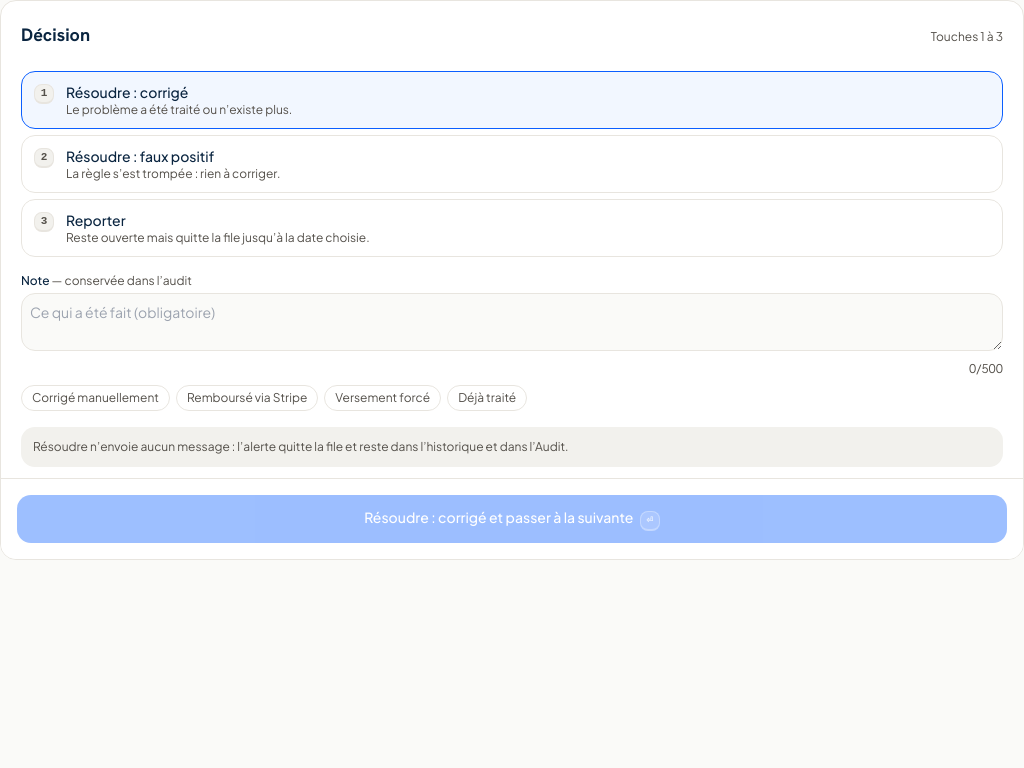
AlertDecisionPanel › un motif rapide remplit la note ; ceux du faux positif diffèrent
Step 1. Click the button with test id "alert-quick-Remboursé via Stripe" → (247, 398), box [176, 385, 318, 411]
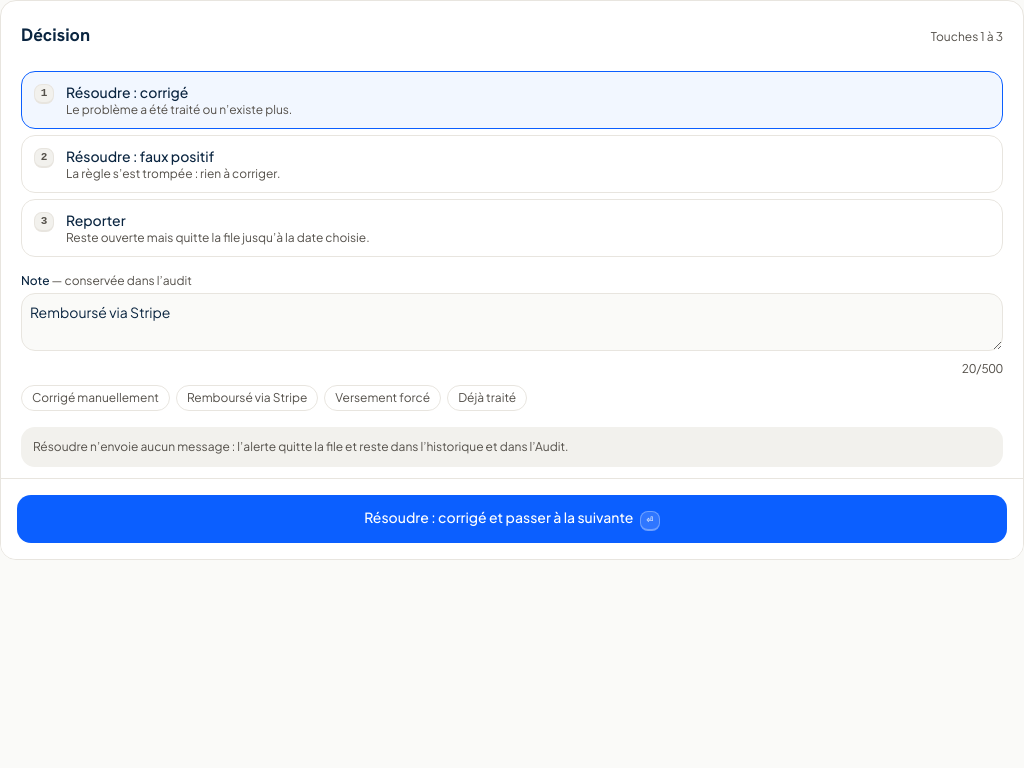
Expected: the text box with test id "alert-note" holds "Remboursé via Stripe", [21, 293, 1003, 351]
Step 2. Click the radio button that starts with "Résoudre : faux positif" → (140, 156), box [21, 135, 1003, 193]
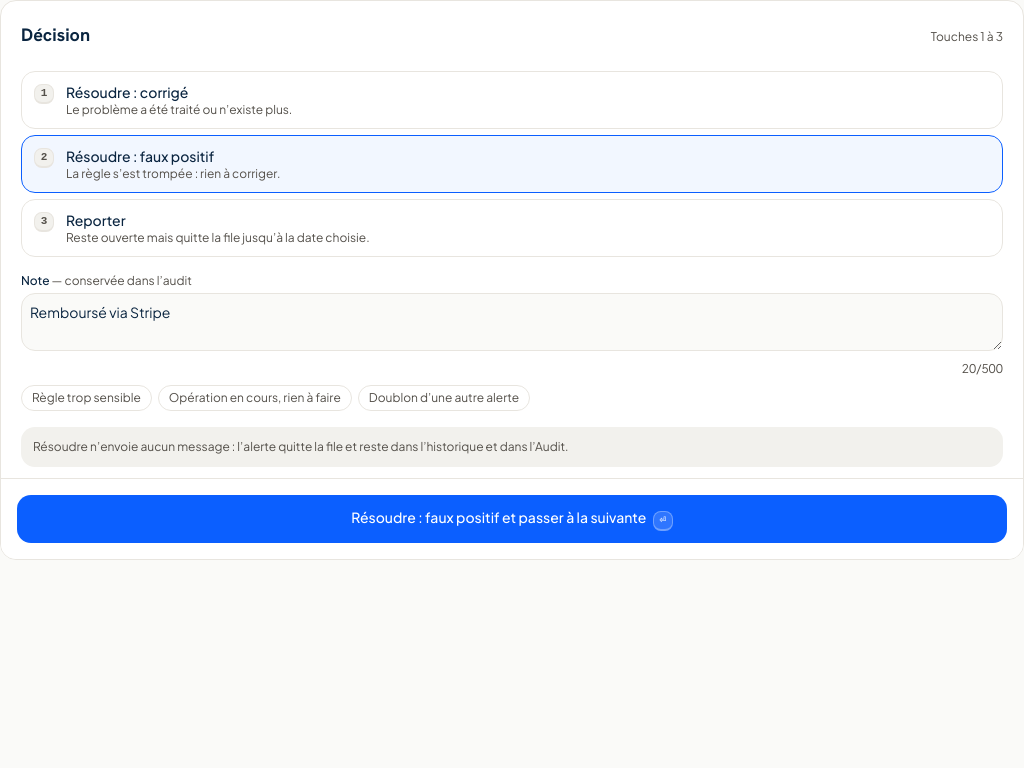
Expected: the button with test id "alert-quick-Règle trop sensible" is shown, [21, 385, 152, 411]
